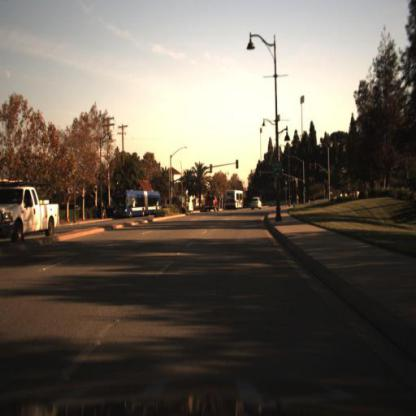car: (1, 180, 62, 242), (224, 190, 248, 209), (203, 192, 221, 216), (250, 198, 266, 213), (251, 196, 263, 214)
truck: (113, 187, 165, 221)
